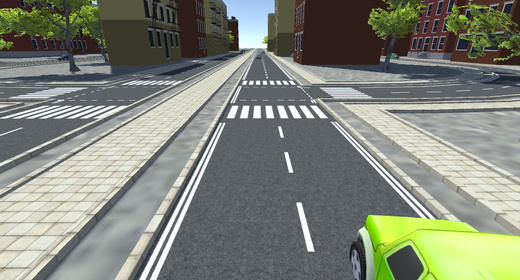centerstrip: (276, 124, 320, 257), (379, 84, 516, 96)
sidestripe: (136, 120, 229, 279), (329, 120, 437, 221), (230, 83, 243, 103)
